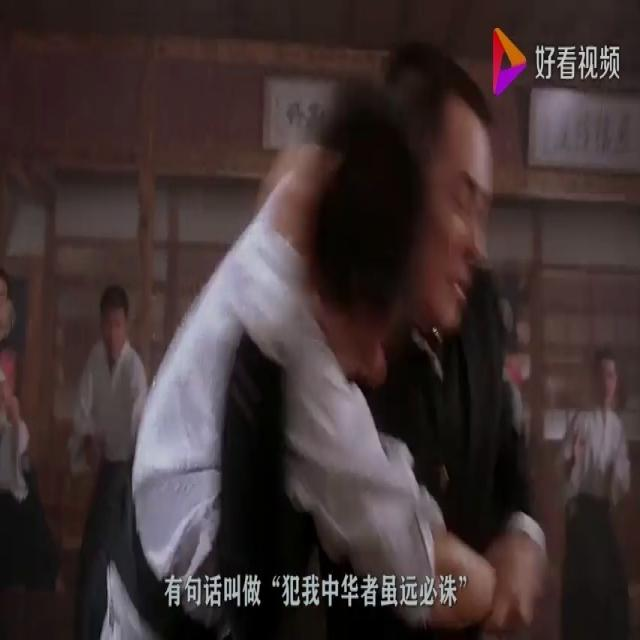fight: (108, 22, 558, 638)
